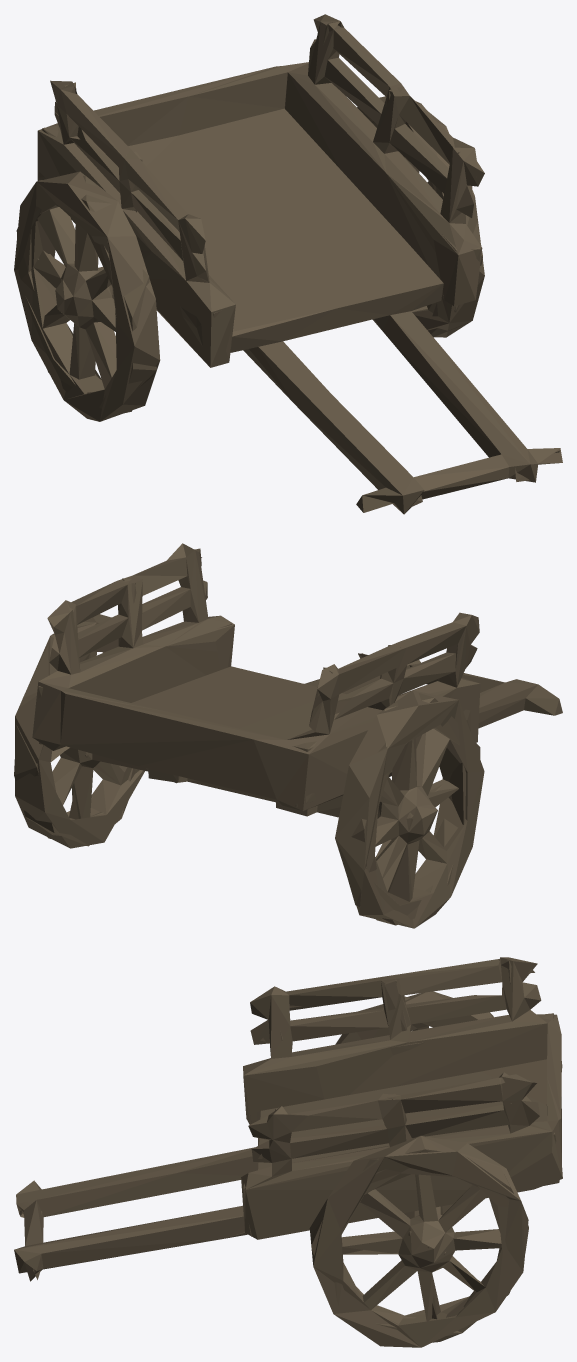
The model's file is ENV_09_CART_game.glb.
The picture shows the model from 3 angles, top to bottom: view 1: azimuth 30°, elevation 25°; view 2: azimuth 150°, elevation 25°; view 3: azimuth 270°, elevation 25°; orthographic projection. The views are drawn at different scales.
Visible parts, largest first — view 1: ENV_09_CART; view 2: ENV_09_CART; view 3: ENV_09_CART.
Part boxes in pixels (x1,y1,x2,y2): ENV_09_CART: (14,14,562,514); ENV_09_CART: (14,543,562,928); ENV_09_CART: (14,957,562,1347).
Size of the model in its own units: 2.01 by 1.45 by 2.8.
